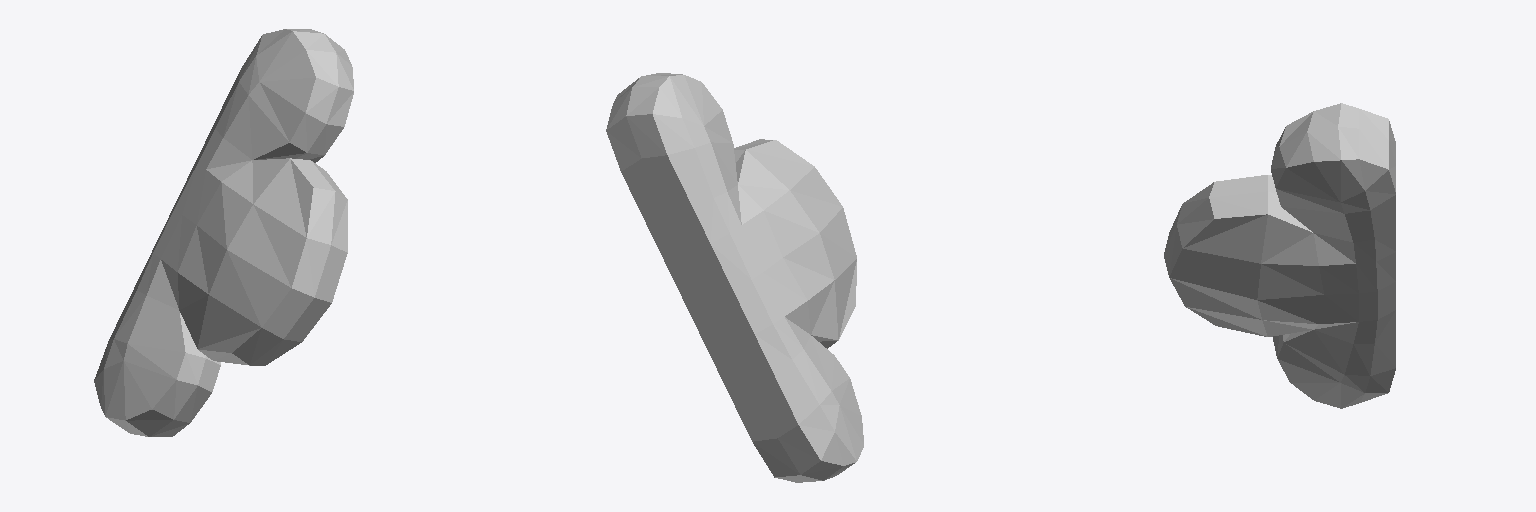
The picture shows the model from 3 angles: view 1: azimuth 30°, elevation 25°; view 2: azimuth 150°, elevation 25°; view 3: azimuth 270°, elevation 25°; orthographic projection.
Visible parts, largest first — view 1: clouds_01_Plane.013_clouds_01_Plane.015; view 2: clouds_01_Plane.013_clouds_01_Plane.015; view 3: clouds_01_Plane.013_clouds_01_Plane.015.
Boxes of the visible parts, box(x1,y1,x2,y2) form: clouds_01_Plane.013_clouds_01_Plane.015: box(94, 29, 353, 436); clouds_01_Plane.013_clouds_01_Plane.015: box(606, 73, 863, 482); clouds_01_Plane.013_clouds_01_Plane.015: box(1164, 103, 1395, 408).
Size of the model in its own units: 2.98 by 4.41 by 2.5.